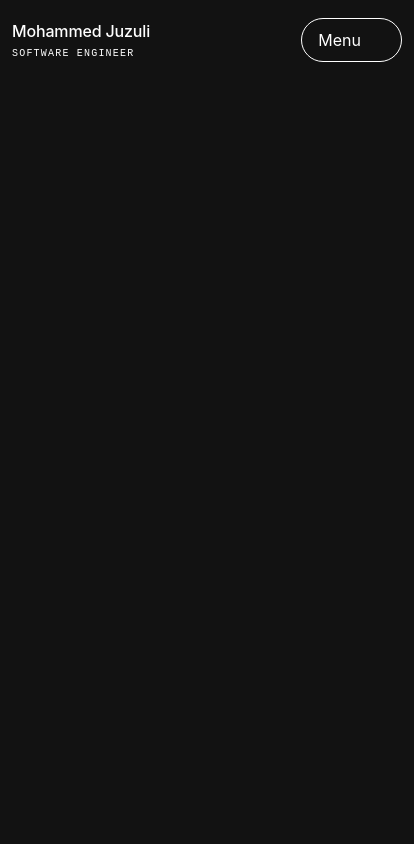
Test: SiteHeader mobile menu › opens the sheet from Menu and closes it with the Close button
The image size is (414, 844).
Click the button "Menu".
click(352, 40)  # box x1=301 y1=18 x2=402 y2=62
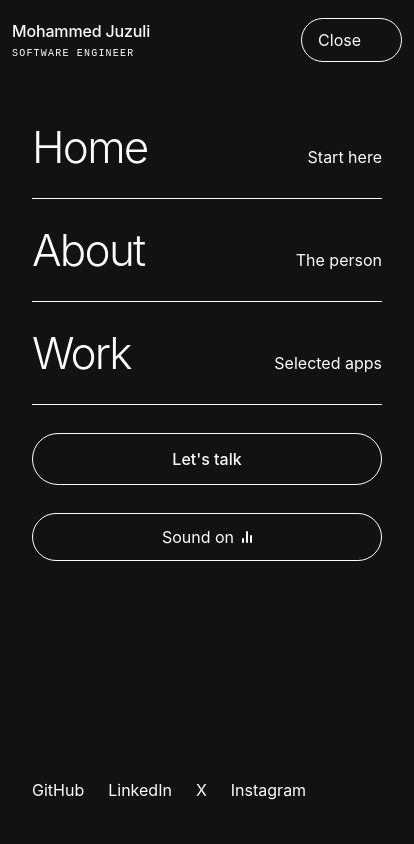
Now the element with id "mobile-menu" is shown
Now the button "Close" is expanded
Now the navigation bar named "Social links" is shown, box x1=32 y1=780 x2=306 y2=800
Click the button "Close".
click(352, 40)  # box x1=301 y1=18 x2=402 y2=62
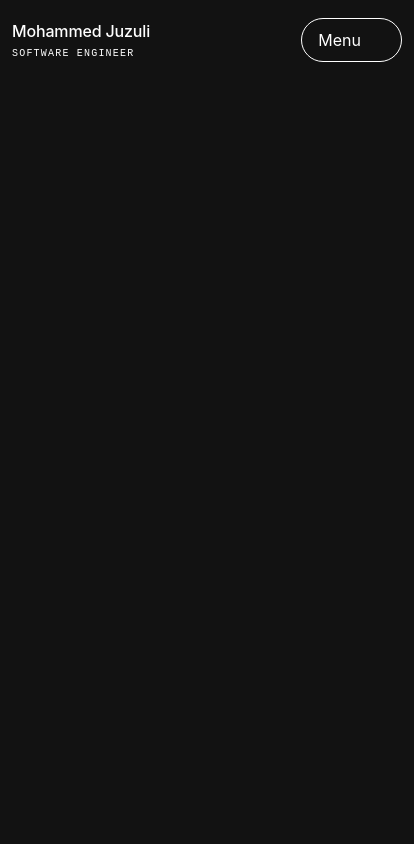
Now the element with id "mobile-menu" is gone
Now the button "Menu" is collapsed, box x1=301 y1=18 x2=402 y2=62
